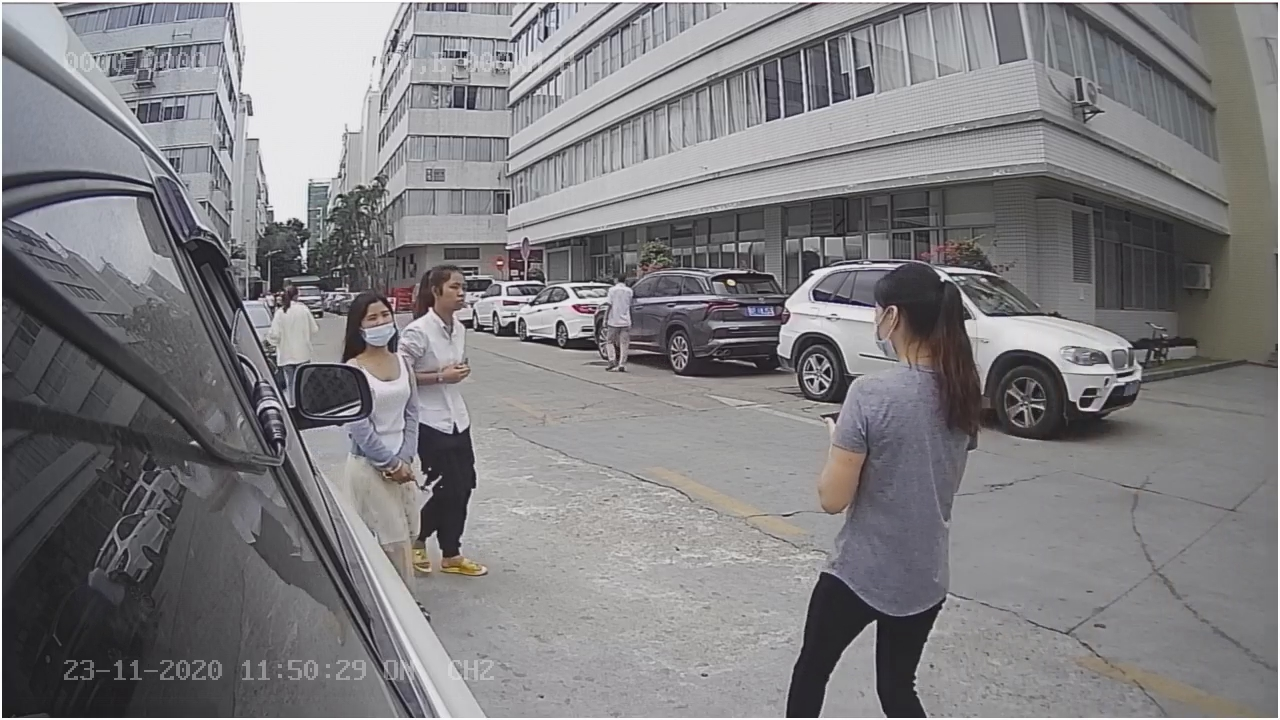person: (820, 266, 993, 525)
